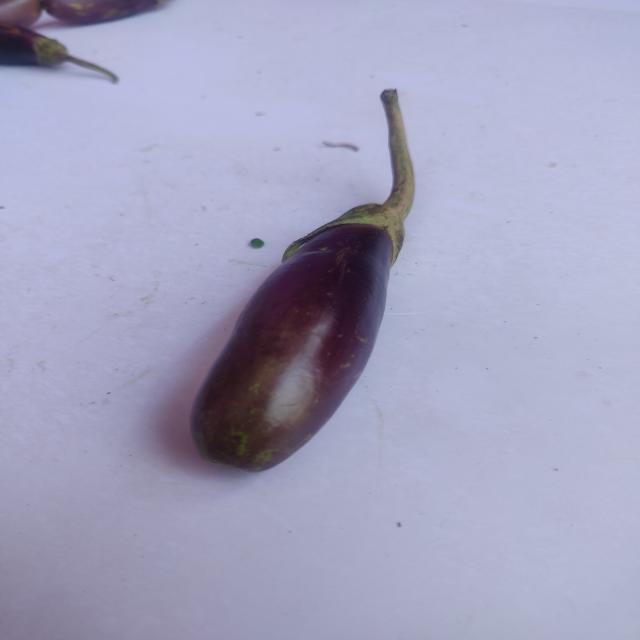Brinjal: (176, 81, 448, 492)
